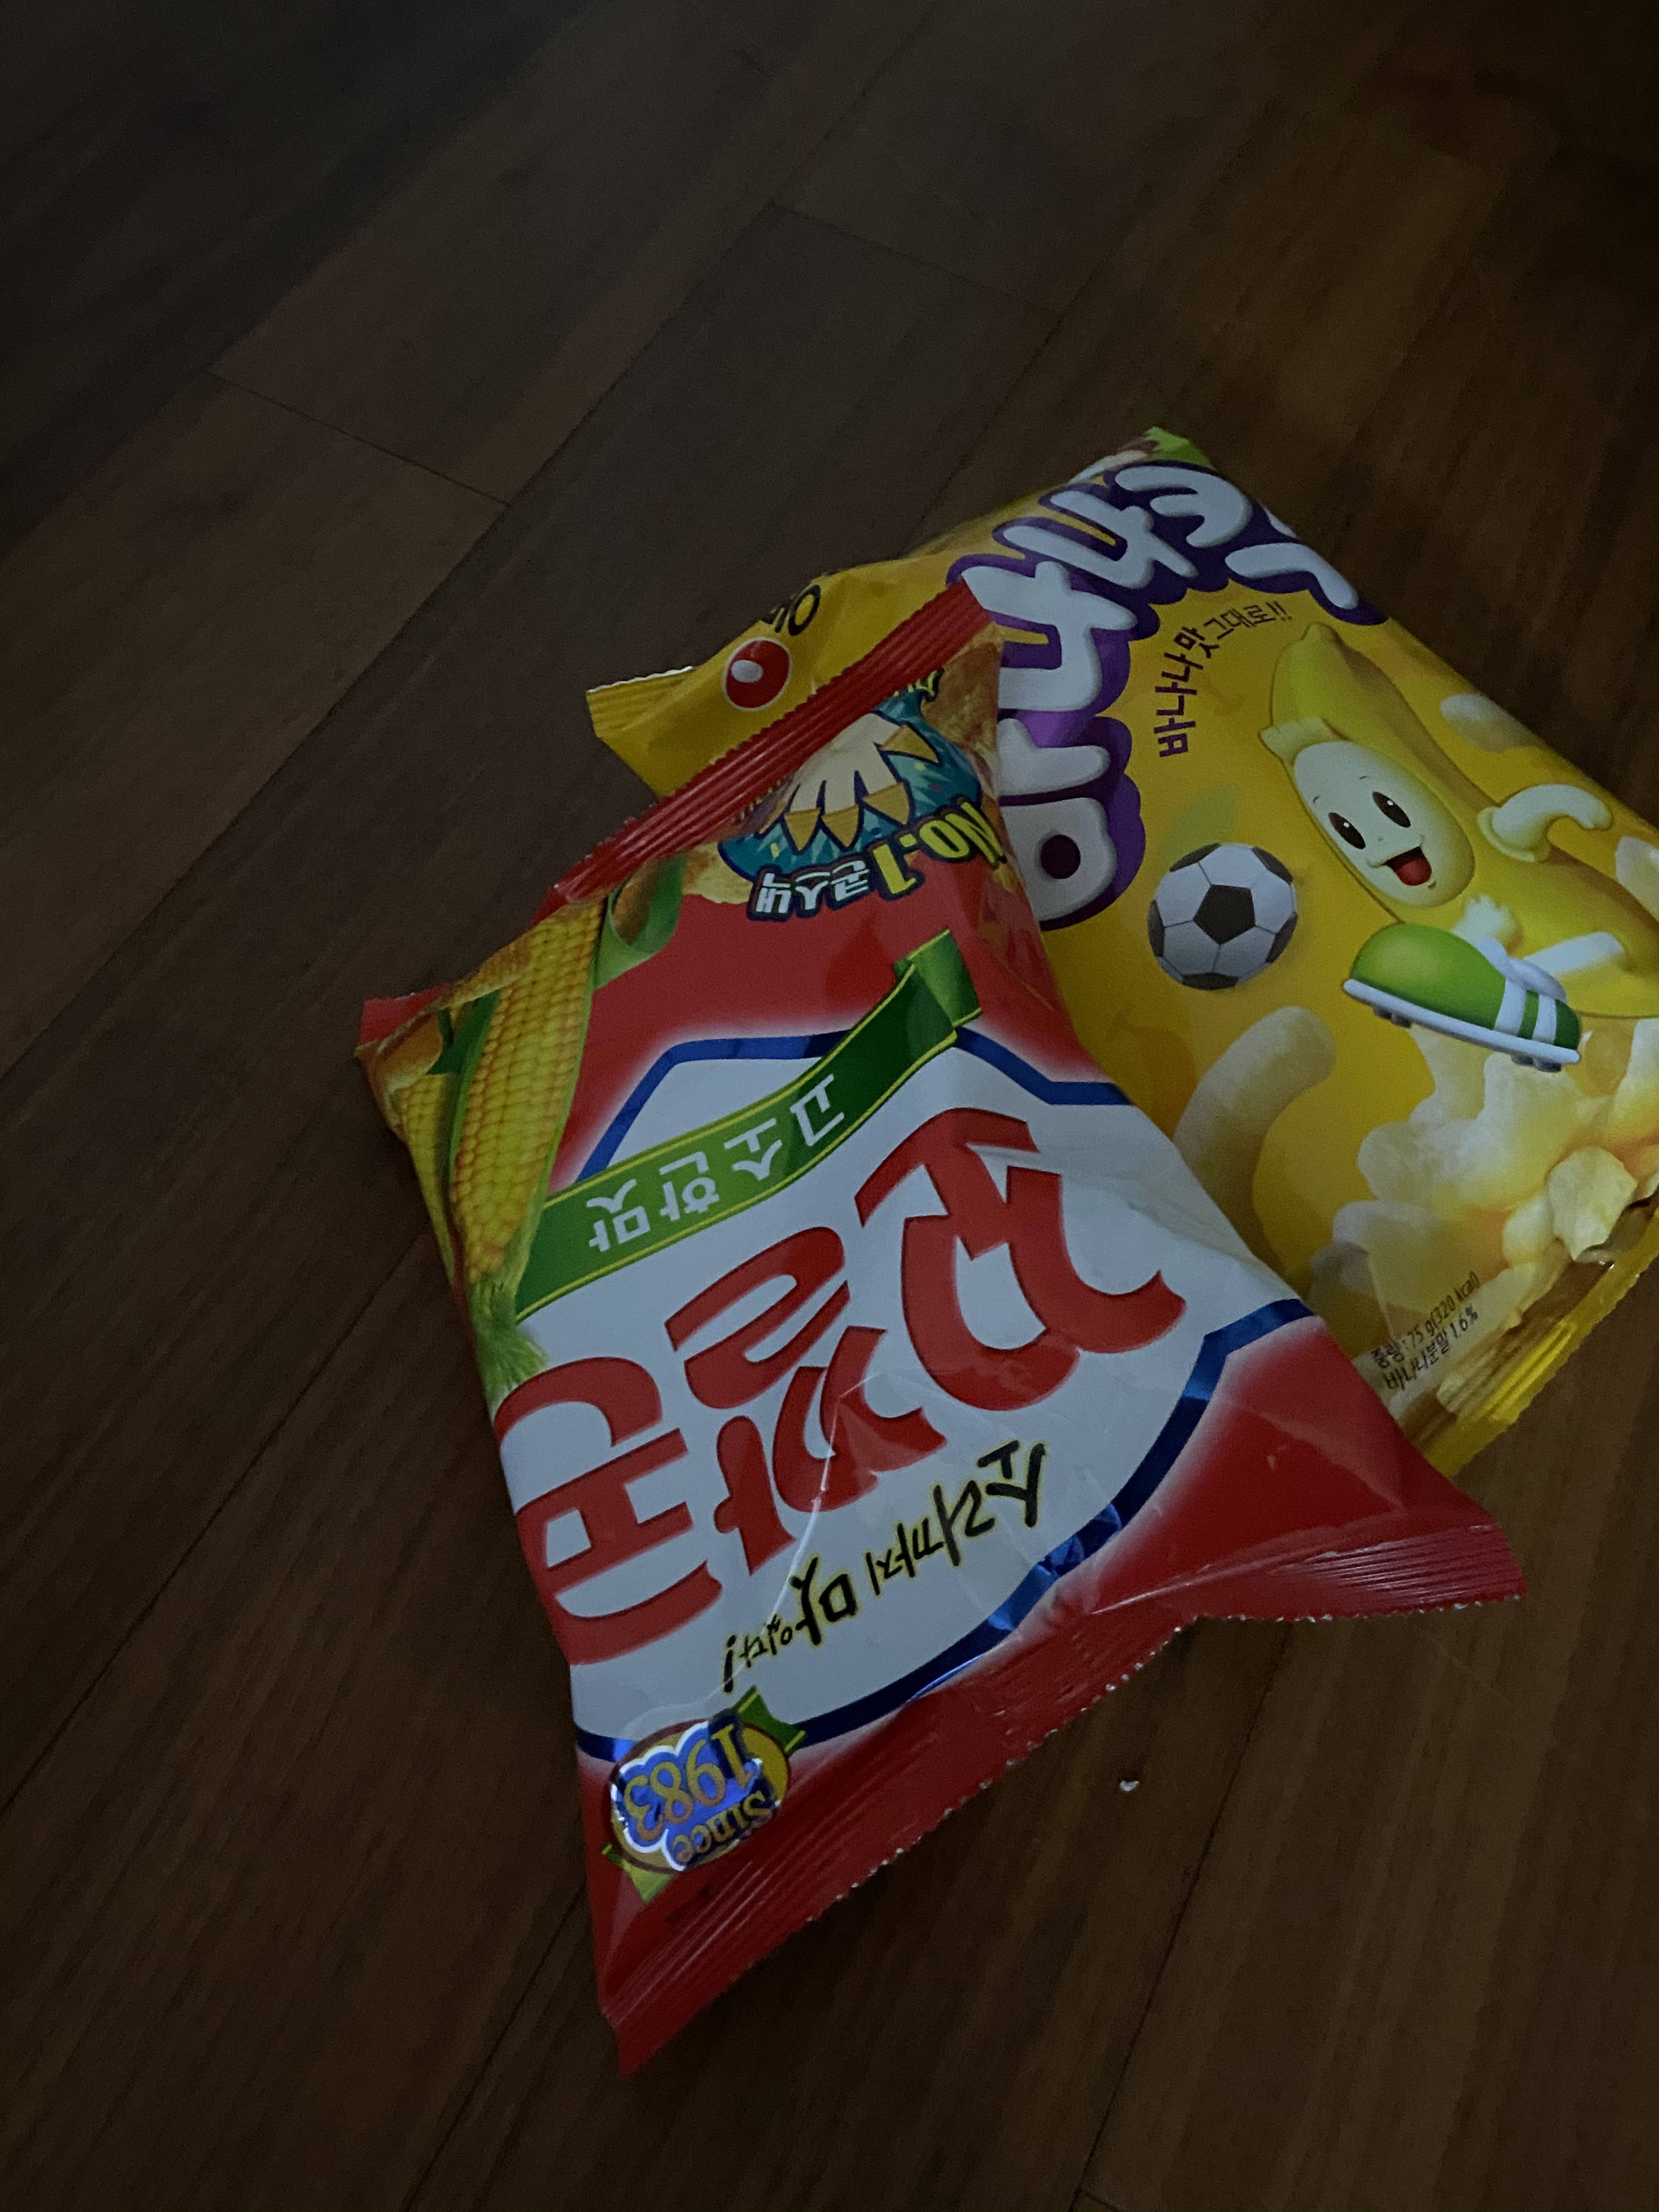banana: (547, 387, 1659, 1547)
ggoggalcon: (319, 571, 1544, 2113)
